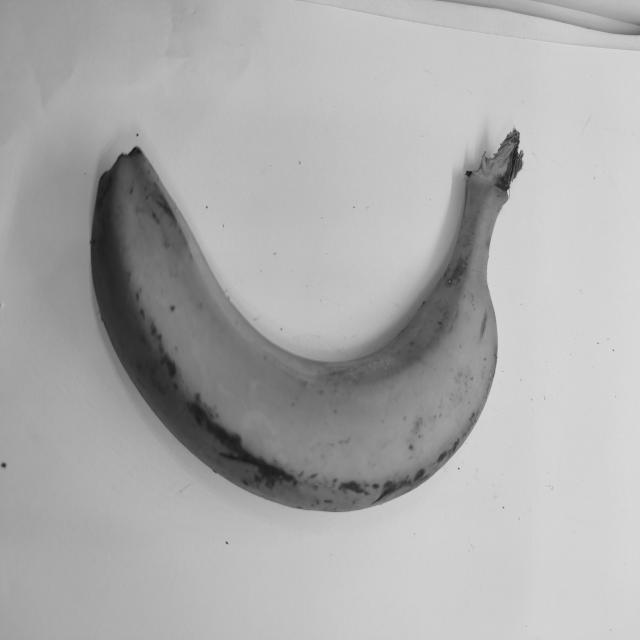Raw: (80, 104, 550, 538)
